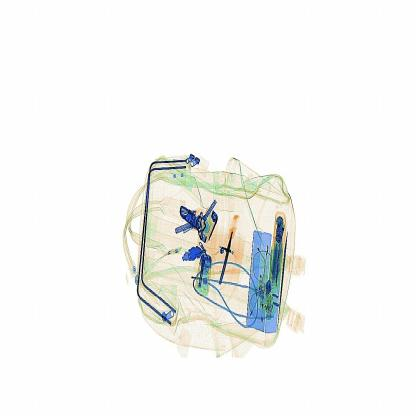gun: (220, 214, 240, 291)
